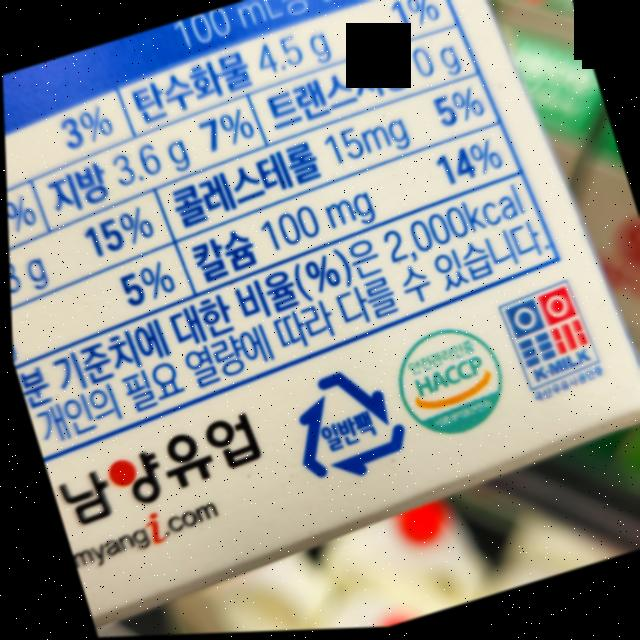NormalPack: (269, 353, 414, 497)
